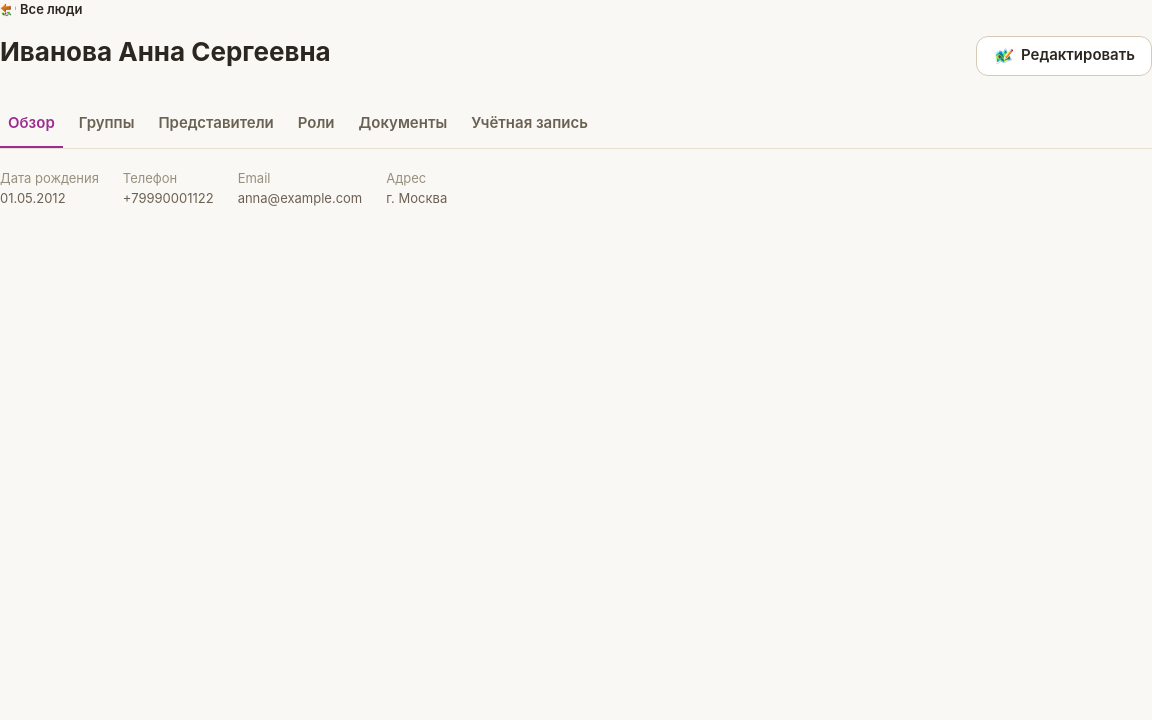
Scenario: PersonDetailPage › submits only the changed fields and closes on success
Click the button "Редактировать" at {"x": 1064, "y": 56}, box left=976, top=36, right=1151, bottom=76
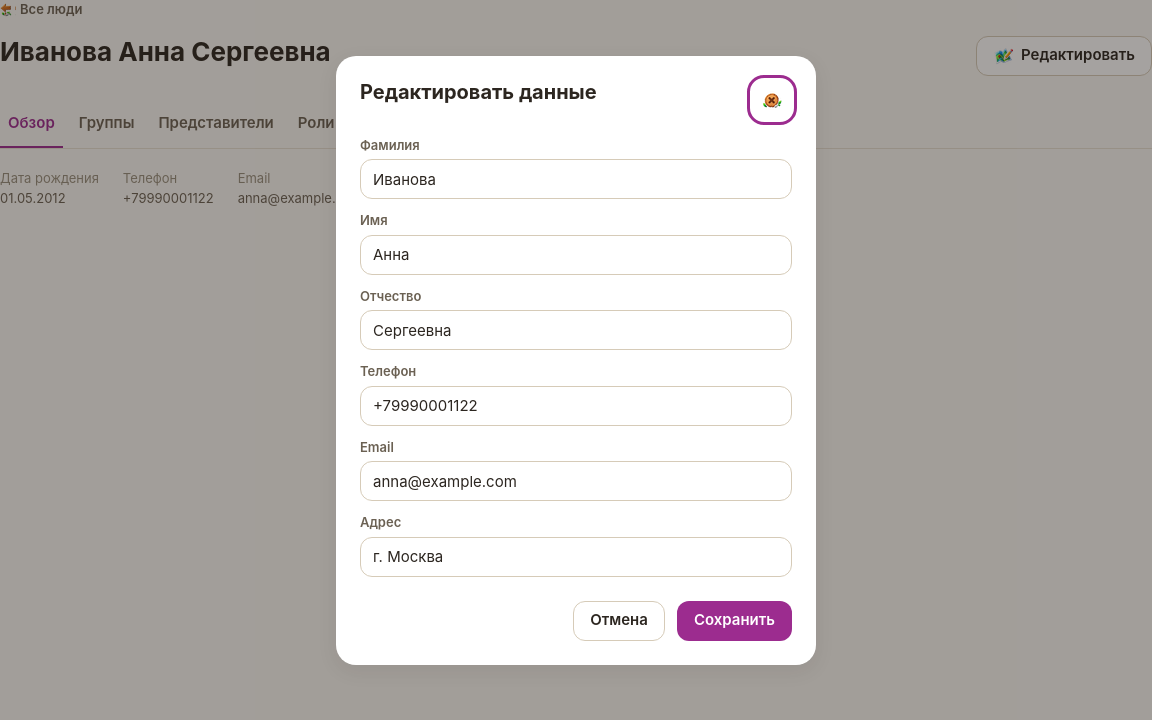
Replace the text in the field labelled "Телефон" with "+70001112233" at {"x": 576, "y": 406}, box left=360, top=386, right=792, bottom=426
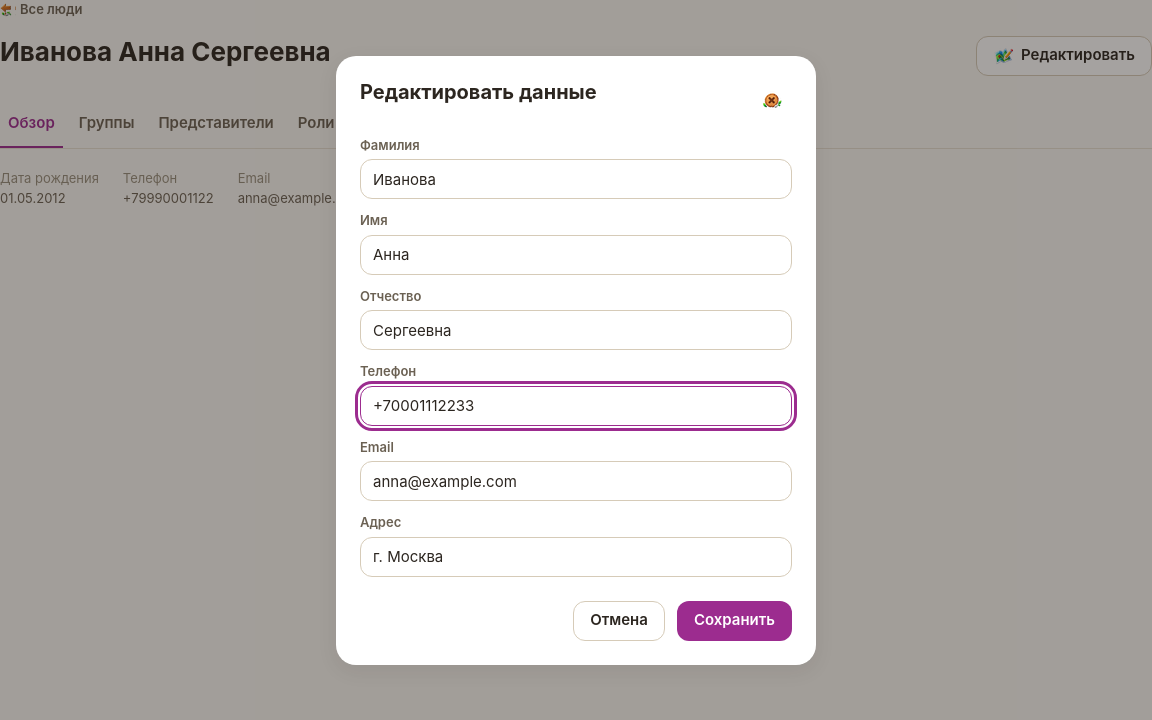
Click the button "Сохранить" at {"x": 734, "y": 620}, box left=677, top=600, right=792, bottom=640
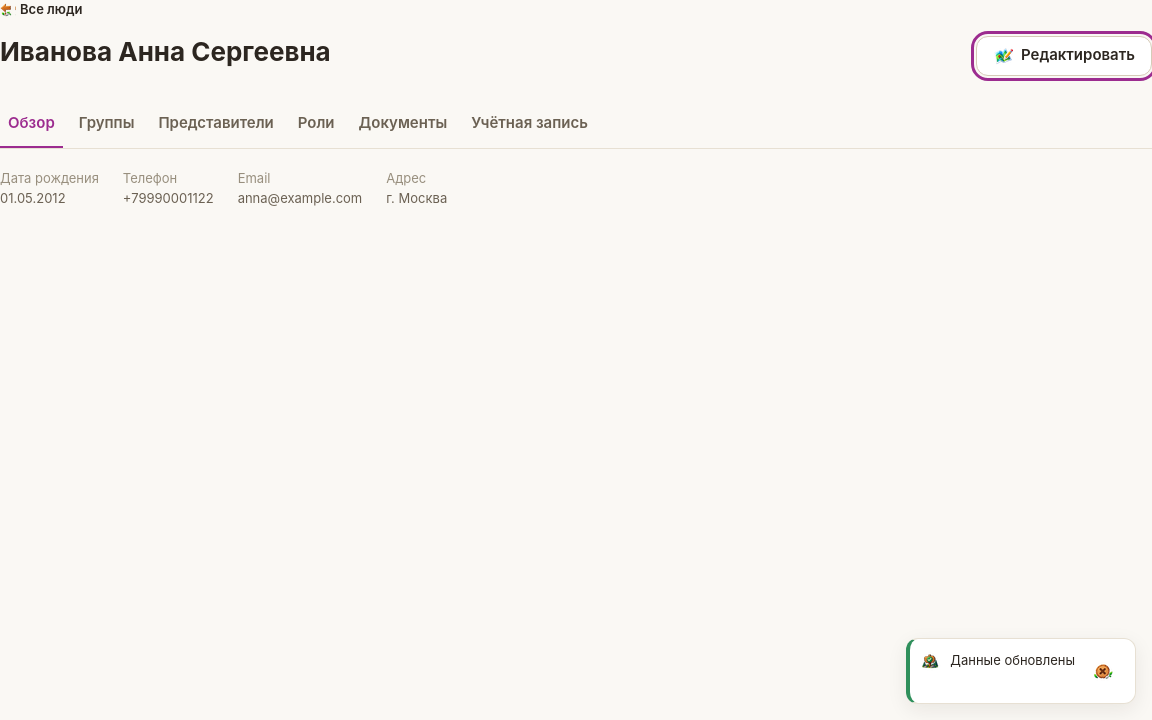
Result: the heading "Редактировать данные" is gone
